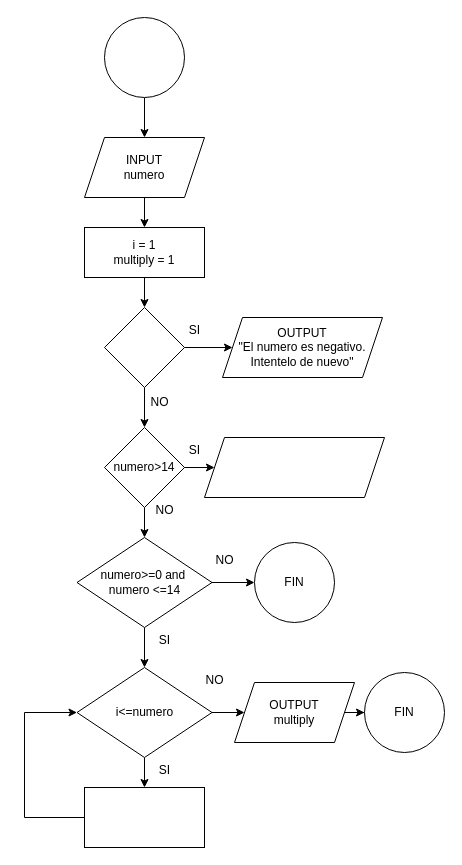
Image size: 462x865. Some labels were removed from this diagram. The shapes that lost their labels are listed below. From the top down, each one's centre as x and y in pixels, then its label:
[144,57]: INICIO
[144,347]: numero < 0
[294,467]: OUTPUT "El numero es muy grande. Intentelo de nuevo"
[144,817]: multiply = multiply *i ++i
